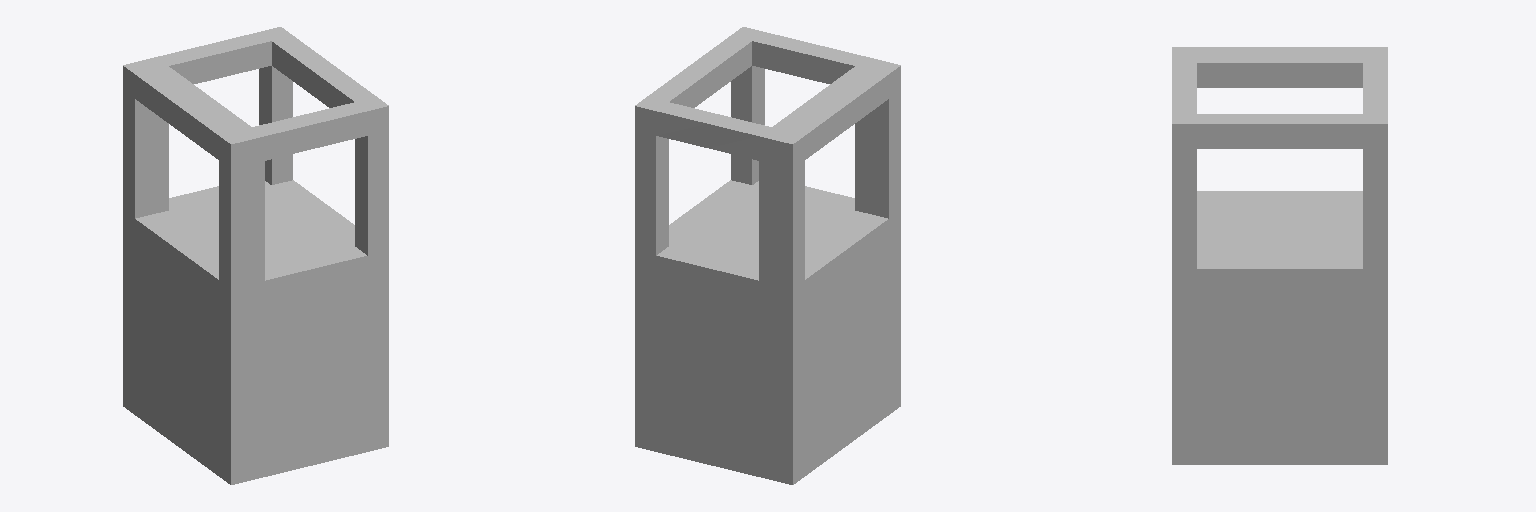
The model's file is fishtank.obj.
The picture shows the model from 3 angles: view 1: azimuth 30°, elevation 25°; view 2: azimuth 150°, elevation 25°; view 3: azimuth 270°, elevation 25°; orthographic projection.
Visible parts, largest first — view 1: Cube; view 2: Cube; view 3: Cube.
Boxes of the visible parts, x1,y1,x2,y2 form: Cube: [123, 27, 388, 484]; Cube: [635, 27, 900, 484]; Cube: [1172, 47, 1387, 464].
Size of the model in its own units: 3.25 by 6.67 by 3.85.